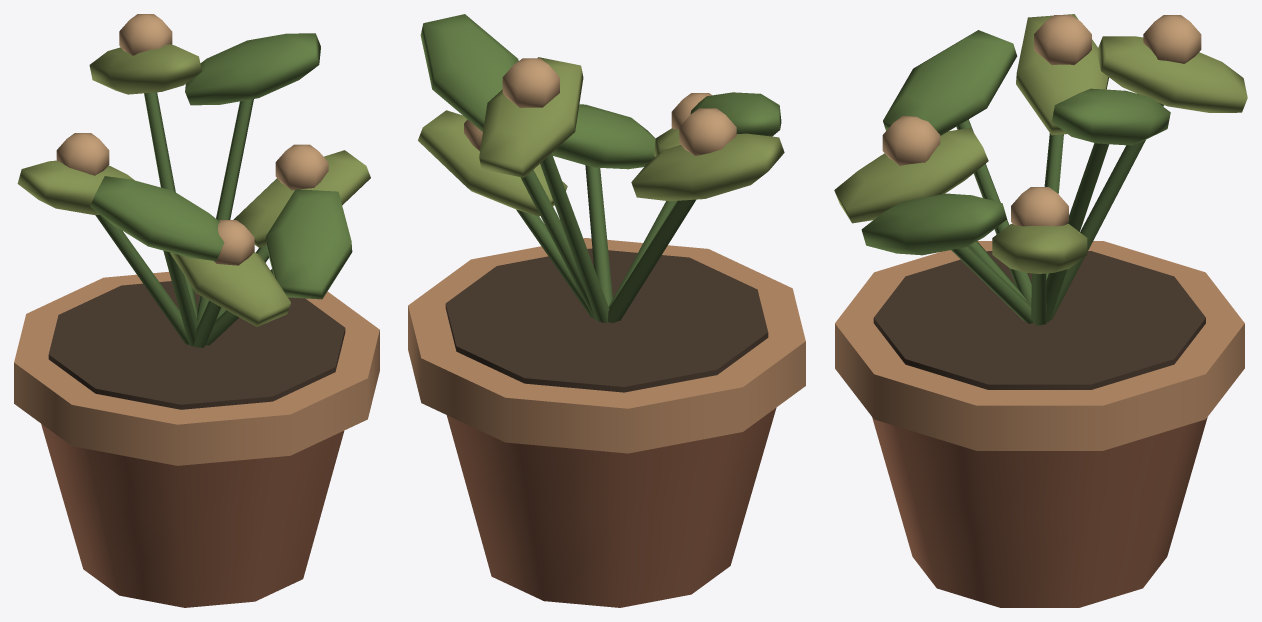
Rendered from Decor_Planter.glb.
The picture shows the model from 3 angles, left to right: view 1: azimuth 30°, elevation 25°; view 2: azimuth 150°, elevation 25°; view 3: azimuth 270°, elevation 25°; orthographic projection. The views are drawn at different scales.
Visible parts, largest first — view 1: _MeshInstance3D_4318, _MeshInstance3D_4319, _MeshInstance3D_4320, _MeshInstance3D_4330, _MeshInstance3D_4325, _MeshInstance3D_4335, _MeshInstance3D_4337, _MeshInstance3D_4327, _MeshInstance3D_4322, _MeshInstance3D_4332, _MeshInstance3D_4334, _MeshInstance3D_4331 (+7 smaller); view 2: _MeshInstance3D_4318, _MeshInstance3D_4319, _MeshInstance3D_4320, _MeshInstance3D_4327, _MeshInstance3D_4335, _MeshInstance3D_4332, _MeshInstance3D_4322, _MeshInstance3D_4330, _MeshInstance3D_4326, _MeshInstance3D_4325, _MeshInstance3D_4328, _MeshInstance3D_4331 (+6 smaller); view 3: _MeshInstance3D_4318, _MeshInstance3D_4319, _MeshInstance3D_4320, _MeshInstance3D_4325, _MeshInstance3D_4327, _MeshInstance3D_4337, _MeshInstance3D_4330, _MeshInstance3D_4335, _MeshInstance3D_4332, _MeshInstance3D_4322, _MeshInstance3D_4333, _MeshInstance3D_4338 (+8 smaller).
Part boxes in pixels (x1,y1,x2,y2): _MeshInstance3D_4318: (41,424,344,607); _MeshInstance3D_4319: (14,271,379,465); _MeshInstance3D_4320: (48,281,345,409); _MeshInstance3D_4330: (266,189,352,299); _MeshInstance3D_4325: (90,176,224,260); _MeshInstance3D_4335: (185,33,320,105); _MeshInstance3D_4337: (170,252,290,326); _MeshInstance3D_4327: (89,44,201,94); _MeshInstance3D_4322: (233,150,370,247); _MeshInstance3D_4332: (17,160,134,214); _MeshInstance3D_4334: (197,99,253,324); _MeshInstance3D_4331: (95,214,188,344); _MeshInstance3D_4318: (446,407,776,607); _MeshInstance3D_4319: (408,238,805,453); _MeshInstance3D_4320: (445,248,768,392); _MeshInstance3D_4327: (479,57,583,177); _MeshInstance3D_4335: (420,14,518,131); _MeshInstance3D_4332: (631,133,784,201); _MeshInstance3D_4322: (418,110,567,216); _MeshInstance3D_4330: (552,104,655,169); _MeshInstance3D_4326: (540,153,609,322); _MeshInstance3D_4325: (690,92,781,136); _MeshInstance3D_4328: (502,58,559,107); _MeshInstance3D_4331: (608,199,695,323); _MeshInstance3D_4318: (872,417,1207,607); _MeshInstance3D_4319: (835,241,1244,450); _MeshInstance3D_4320: (873,251,1205,389); _MeshInstance3D_4325: (883,30,1017,135); _MeshInstance3D_4327: (1097,36,1247,112); _MeshInstance3D_4337: (834,128,988,223); _MeshInstance3D_4330: (861,193,1006,255); _MeshInstance3D_4335: (1051,88,1170,145); _MeshInstance3D_4332: (1016,14,1108,135); _MeshInstance3D_4322: (992,223,1087,273); _MeshInstance3D_4333: (1034,15,1091,65); _MeshInstance3D_4338: (882,116,940,165).
Size of the model in its own units: 0.7477 by 1.09 by 0.7466.
